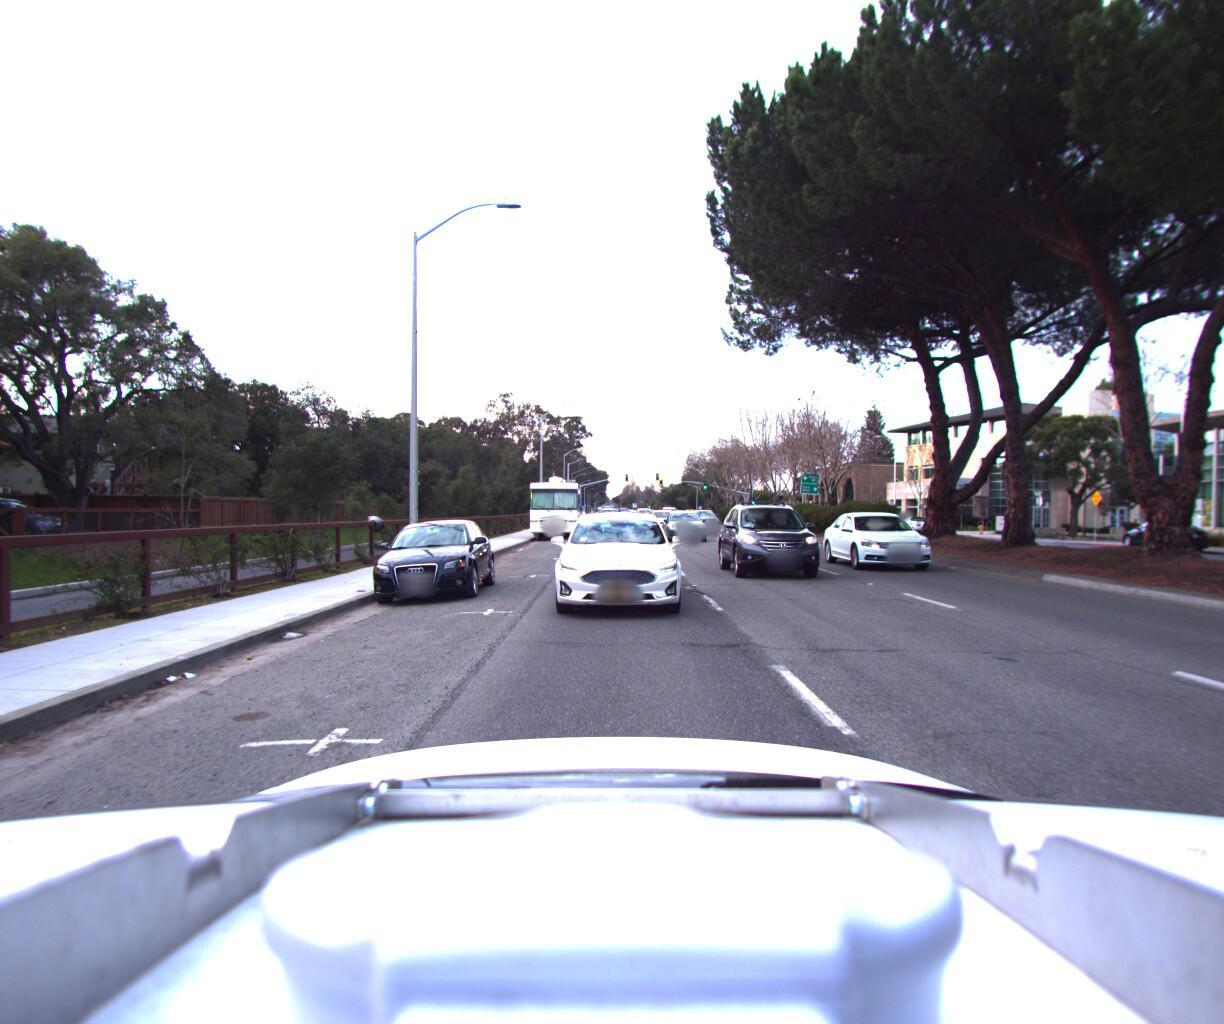bus: (523, 465, 582, 537)
car: (542, 508, 690, 633), (364, 514, 496, 606), (719, 493, 836, 583), (831, 504, 964, 573), (1110, 515, 1215, 552), (659, 511, 714, 548), (646, 506, 683, 531), (688, 505, 725, 528), (591, 498, 611, 514)
